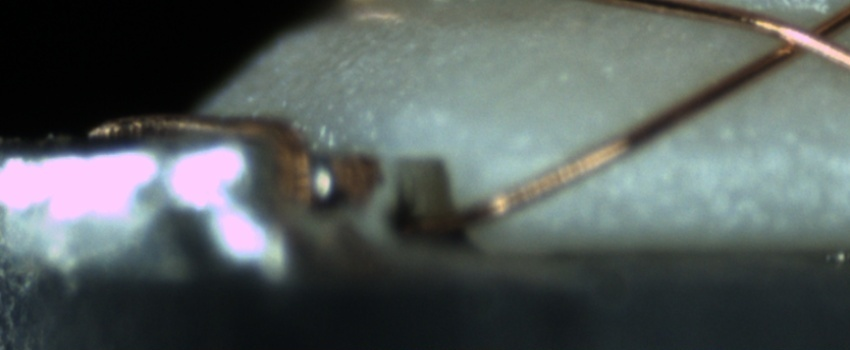CL: (758, 7, 848, 68)
DL: (502, 112, 849, 186)
TE: (80, 112, 315, 210)
